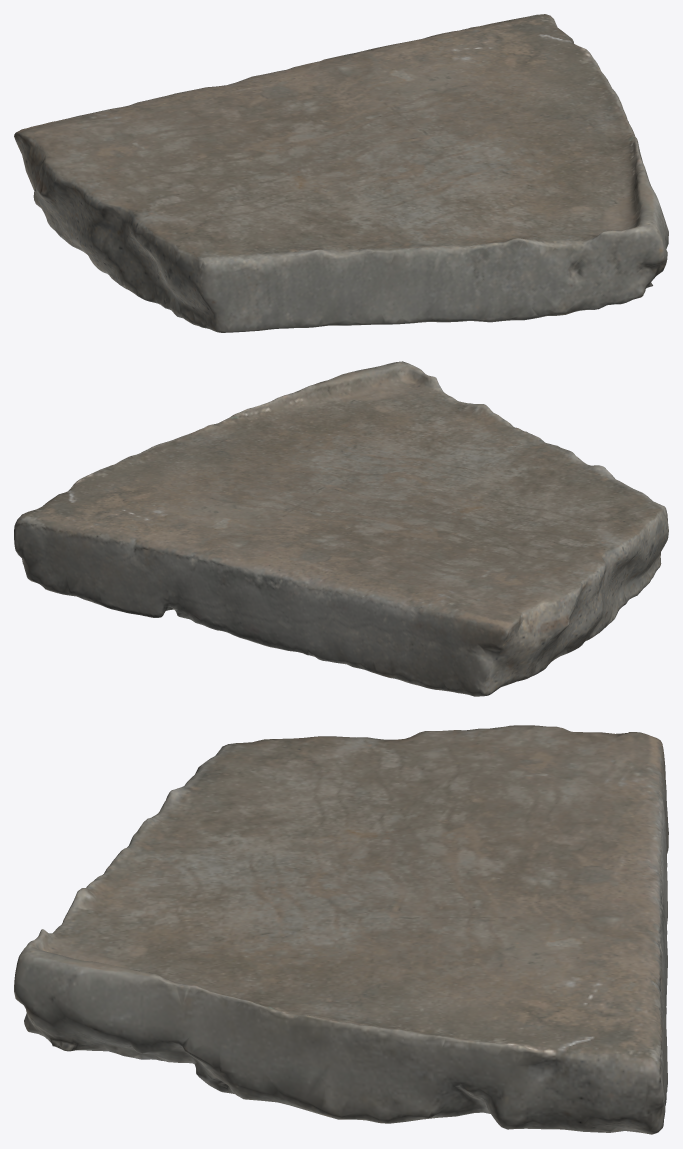
Rendered from Rock3.fbx.
The picture shows the model from 3 angles, top to bottom: view 1: azimuth 30°, elevation 25°; view 2: azimuth 150°, elevation 25°; view 3: azimuth 270°, elevation 25°; orthographic projection. The views are drawn at different scales.
Visible parts, largest first — view 1: Aset_debris_construction_S_tmkhdecva_02_LOD0; view 2: Aset_debris_construction_S_tmkhdecva_02_LOD0; view 3: Aset_debris_construction_S_tmkhdecva_02_LOD0.
Part boxes in pixels (x1,y1,x2,y2): Aset_debris_construction_S_tmkhdecva_02_LOD0: (14,14,668,332); Aset_debris_construction_S_tmkhdecva_02_LOD0: (14,361,668,696); Aset_debris_construction_S_tmkhdecva_02_LOD0: (14,725,668,1134).
Bounding box in the file's own units: 37.01 × 5.88 × 31.26.
